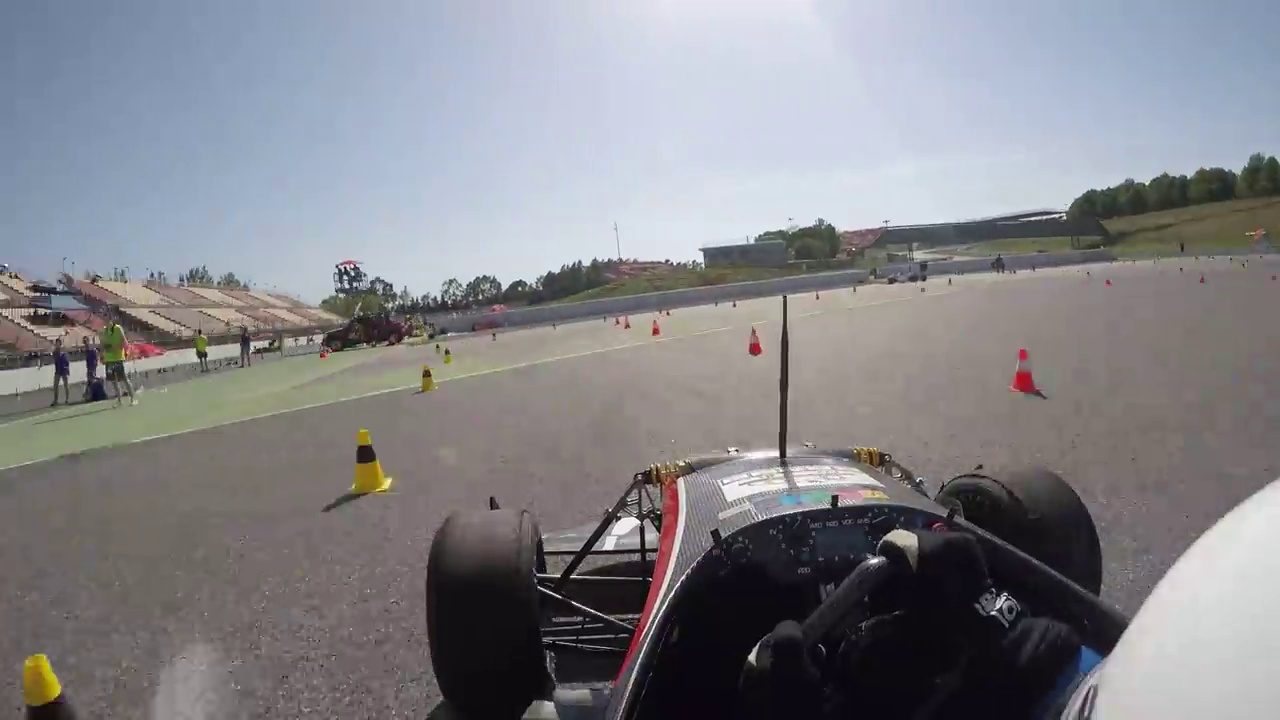Cone: (350, 427, 394, 497), (1012, 347, 1040, 395)
